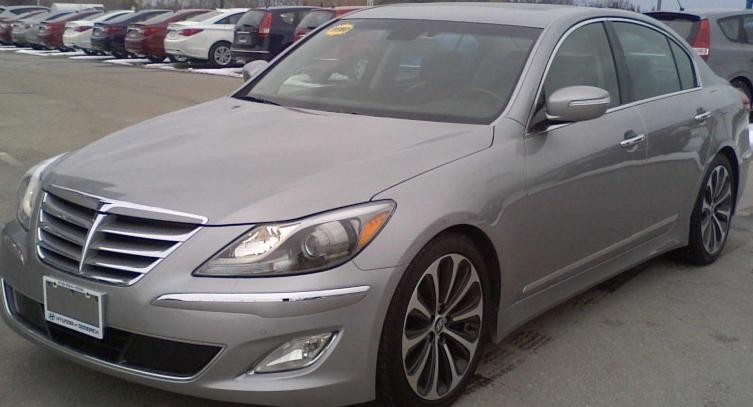front_view: (2, 142, 399, 404)
headlight: (197, 212, 396, 279)
side_glass: (525, 12, 702, 144)
